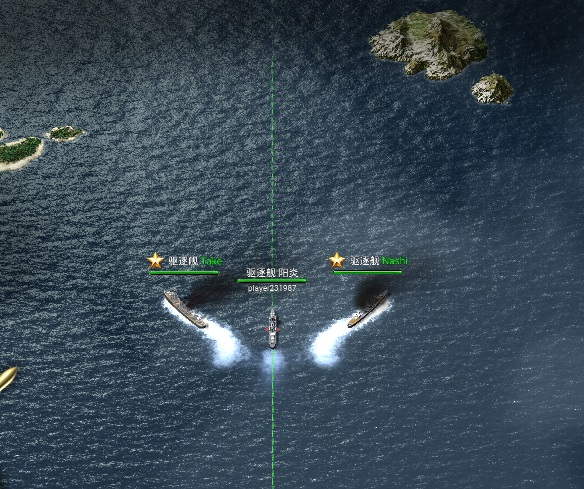ship: (347, 283, 390, 331), (162, 289, 210, 331), (265, 308, 282, 349)
